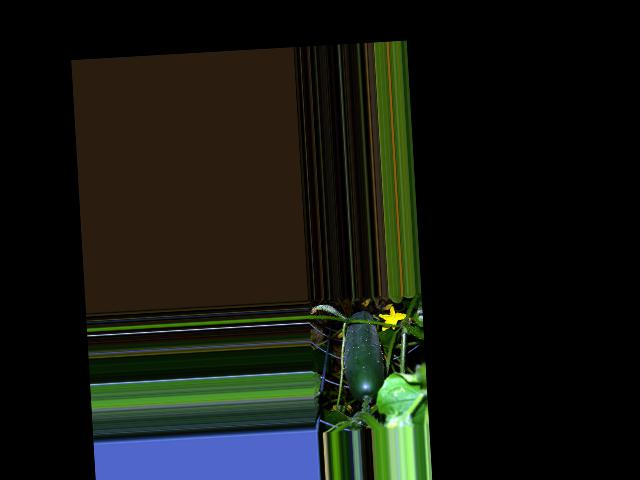cucumber: (340, 310, 385, 403)
